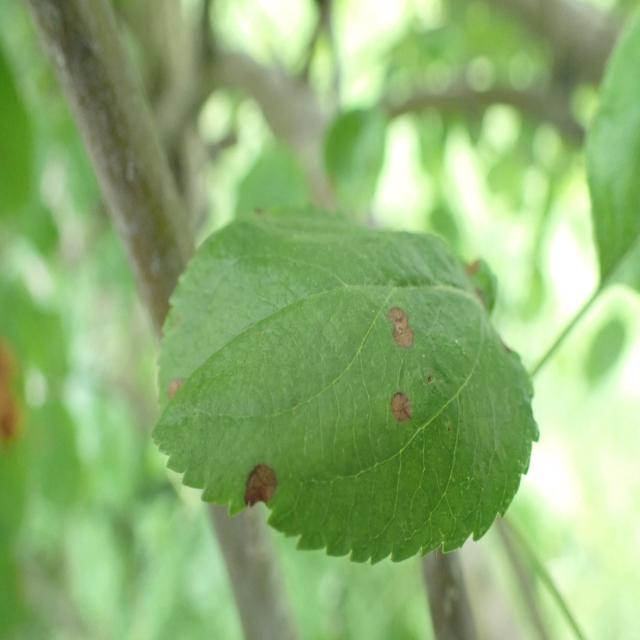Black Rot: (377, 295, 426, 373), (242, 444, 286, 522), (388, 386, 422, 448), (157, 367, 199, 415)
